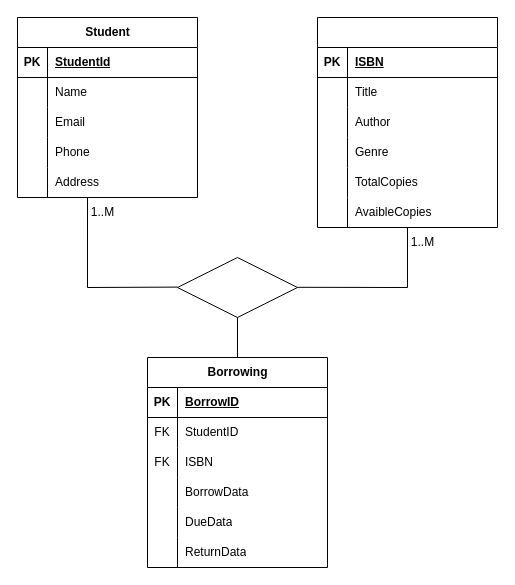
The diagram is 515 pixels wide and 585 high, and some of its shapes have lost their labels. Each missing label, with the box of its shape:
Book: (316, 16, 498, 228)
Borrow: (176, 256, 298, 318)
